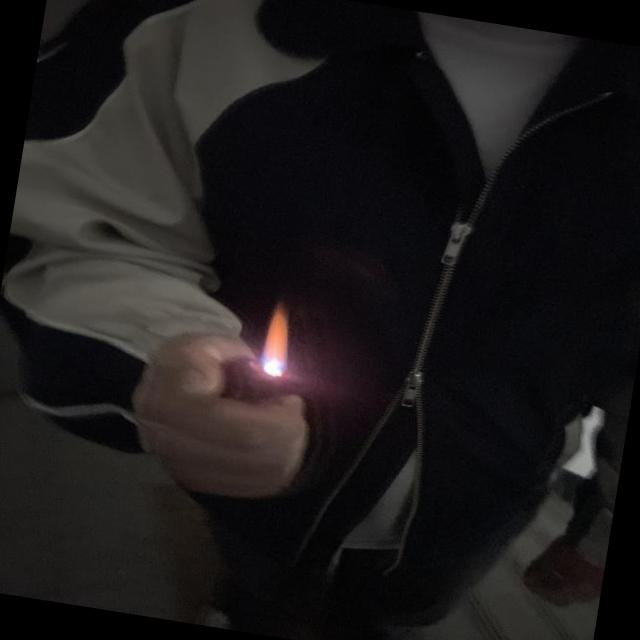Fire: (260, 302, 296, 376)
